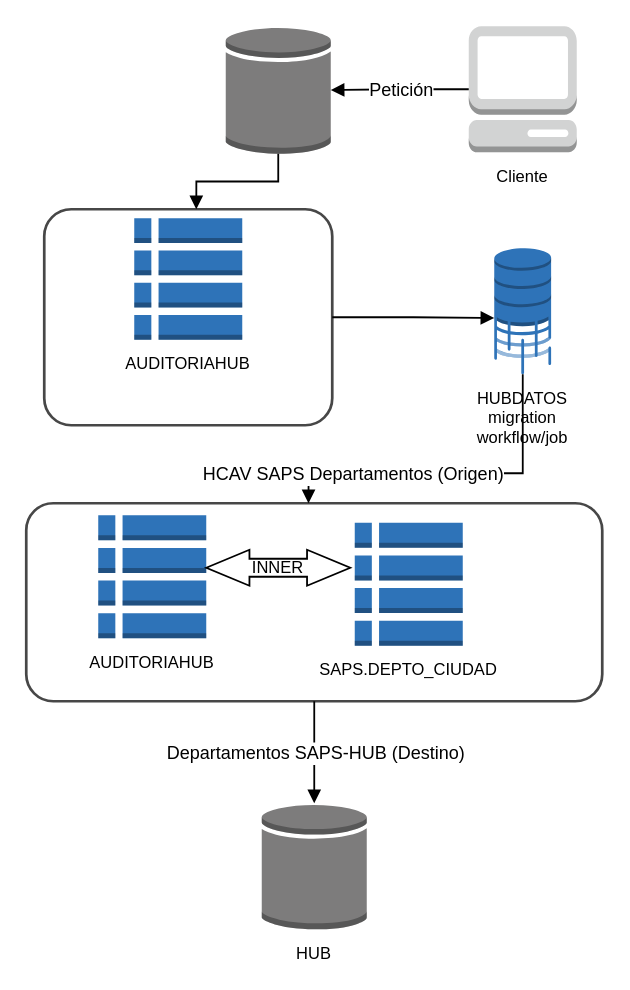
Some shapes in this 630 by 990 pixel diagram are drawn without their labels. The box of each missing label's shape, as (x1, y1, x2, y2) in pixels:
Extracción de datos cuando AUDITADA = 1: (24, 501, 603, 702)
SAPS: (224, 25, 331, 154)
Trigger AUDIT_CLIENTE__HUB: (42, 207, 333, 426)
